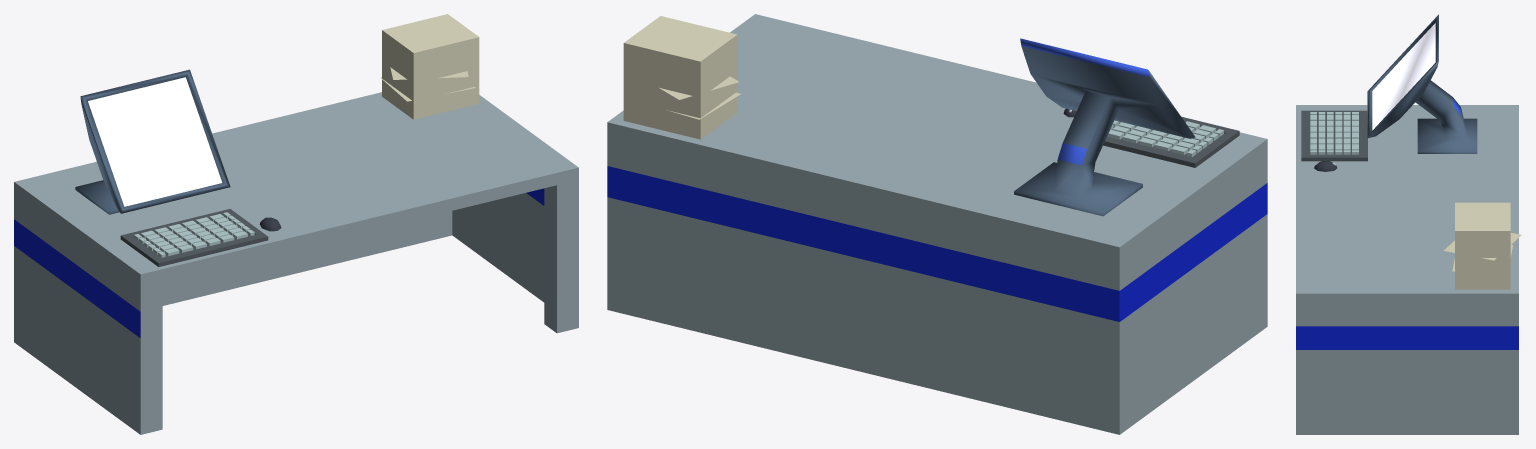
The model's file is kassa.glb.
3 renders of one model, left to right at view 1: azimuth 30°, elevation 25°; view 2: azimuth 150°, elevation 25°; view 3: azimuth 270°, elevation 25°, orthographic. The views are drawn at different scales.
Parts seen in each view (by area): view 1: kassa; view 2: kassa; view 3: kassa.
Boxes of the visible parts, <box> form: kassa: <box>14,14,578,434</box>; kassa: <box>607,14,1267,434</box>; kassa: <box>1296,14,1521,434</box>.
Bounding box in the file's own units: 2 × 1.2 × 1.01.
9 materials, 1 textured.
